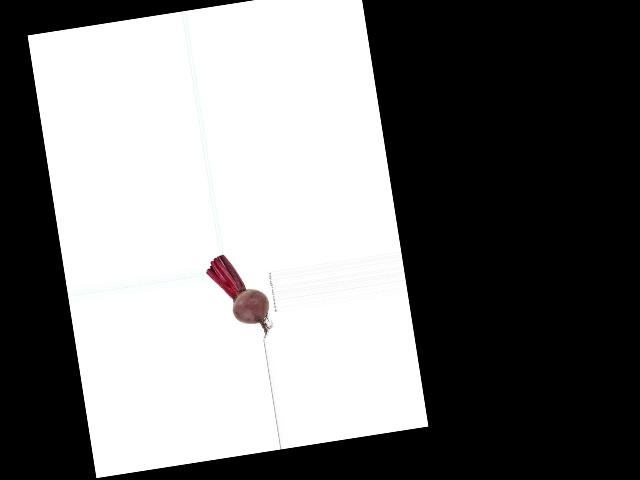beet: (204, 248, 274, 345)
